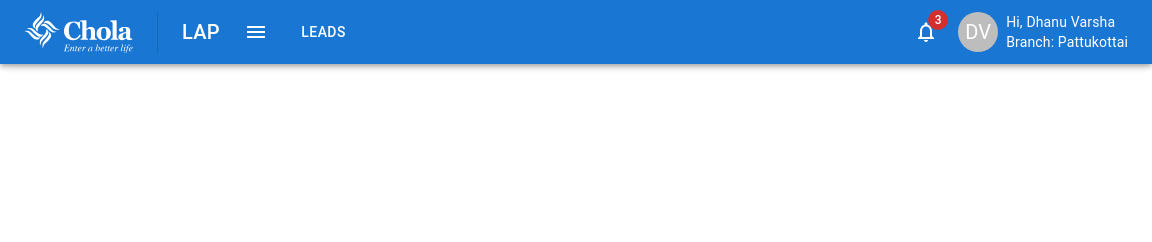
Scenario: CdfAppBar Component › opens and closes profile menu on avatar click
The width and height of the screenshot is (1152, 242).
Click the button with test id "avatar-btn": (978, 32) [958,12,998,52]
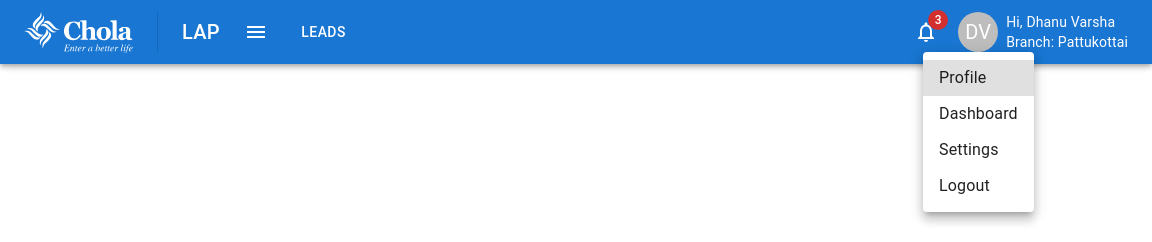
Expected: the text "Profile" is shown, [939,66,986,90]
Expected: the text "Dashboard" is shown, [939,102,1018,126]
Expected: the text "Settings" is shown, [939,138,999,162]
